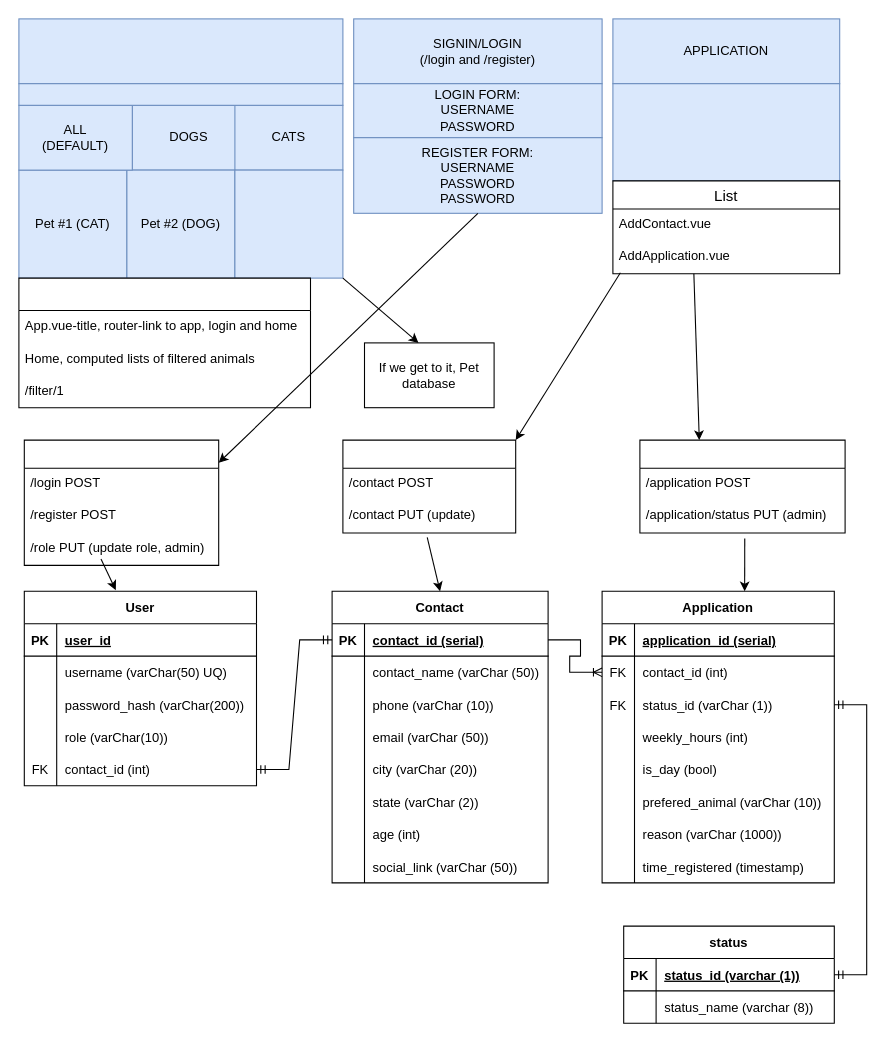
This 895x1042 diagram has some shape labels left out. Here are the shapes that lost their labels. From the top down, the box of each, then its label:
(18, 18, 343, 84): HOME
(18, 83, 343, 105): FILTERS BUTTONS:
(612, 83, 840, 181): FORM FOR CONTACT INFO AND APPLICATION INFO
(234, 169, 343, 278): Pet #3 (DOG)
(18, 277, 310, 408): Vue Components
(23, 439, 219, 565): UserController
(342, 439, 516, 533): ContactController
(639, 439, 845, 533): ApplicationController
